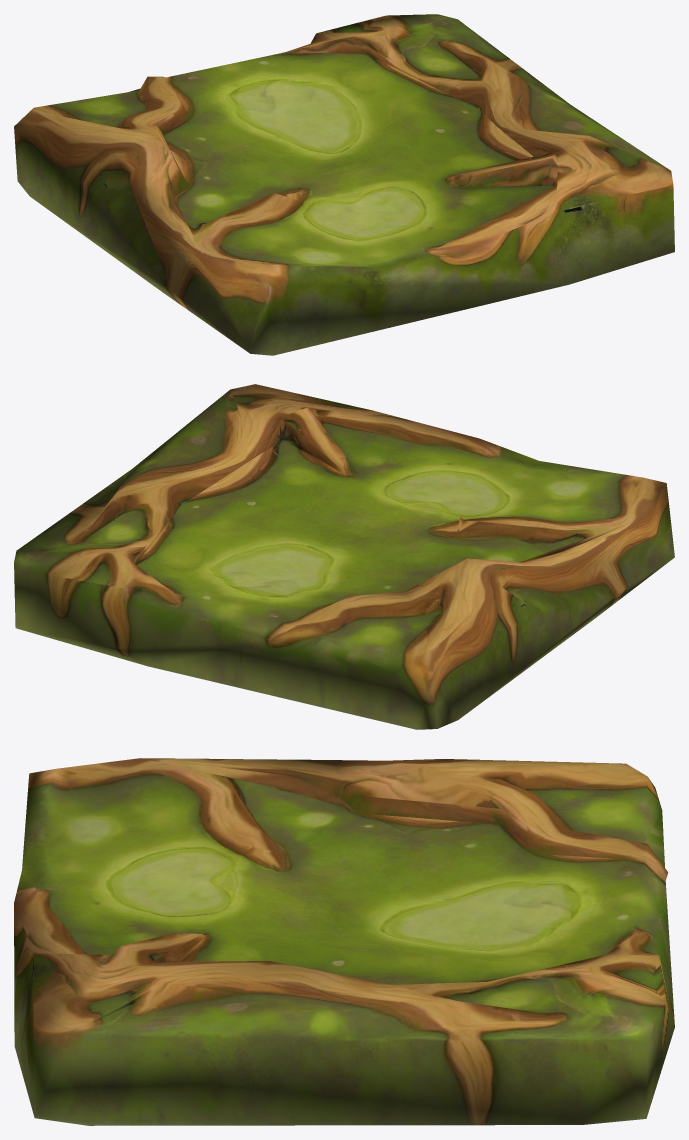
File: gnd_swamp.glb
The picture shows the model from 3 angles, top to bottom: view 1: azimuth 30°, elevation 25°; view 2: azimuth 150°, elevation 25°; view 3: azimuth 270°, elevation 25°; orthographic projection. The views are drawn at different scales.
Visible parts, largest first — view 1: Mesh0; view 2: Mesh0; view 3: Mesh0.
Part boxes in pixels (box(x1,y1,x2,y2)): Mesh0: box(14, 14, 674, 355); Mesh0: box(14, 384, 674, 729); Mesh0: box(14, 758, 674, 1125).
Size of the model in its own units: 1.87 by 0.4418 by 1.87.
Materials: 1 (1 with a texture image).
